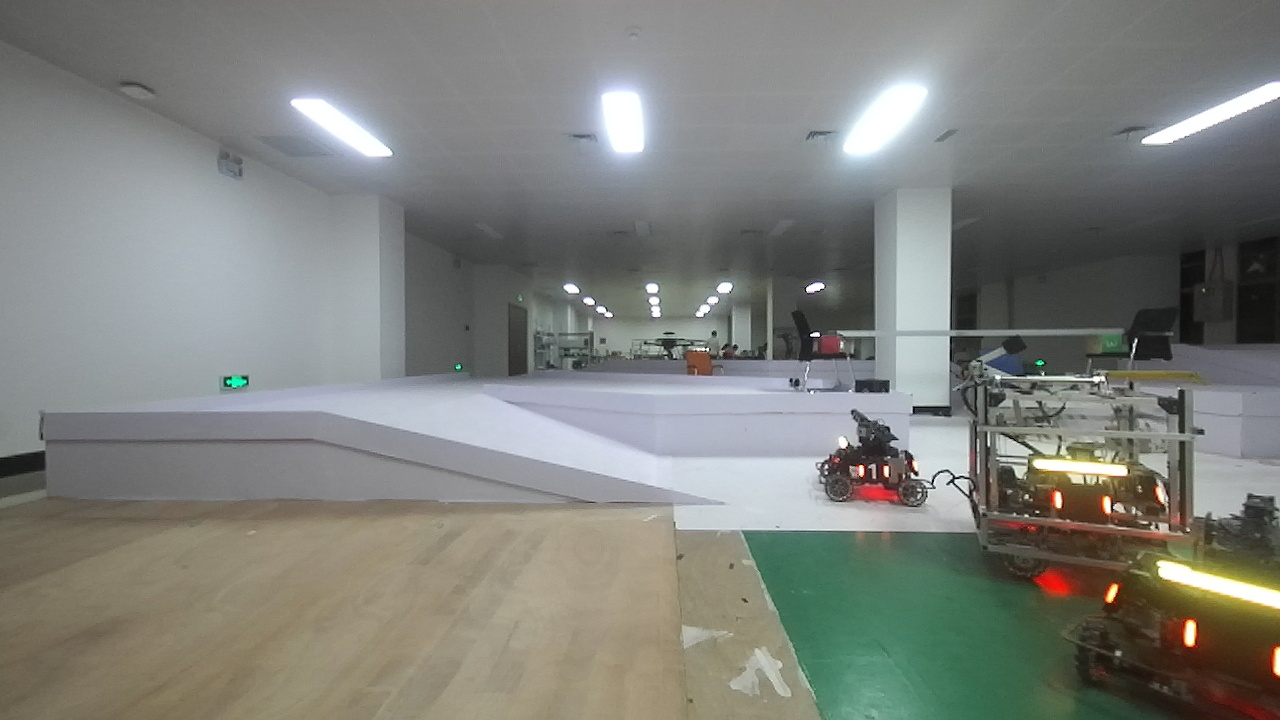car: (944, 342, 1223, 574), (1065, 554, 1280, 715), (808, 399, 936, 515)
